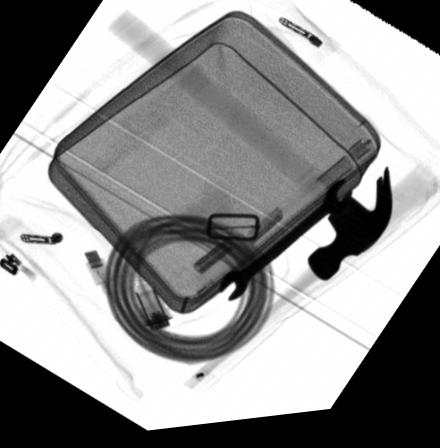Hammer: (106, 10, 391, 288)
Wrench: (217, 187, 351, 308)
